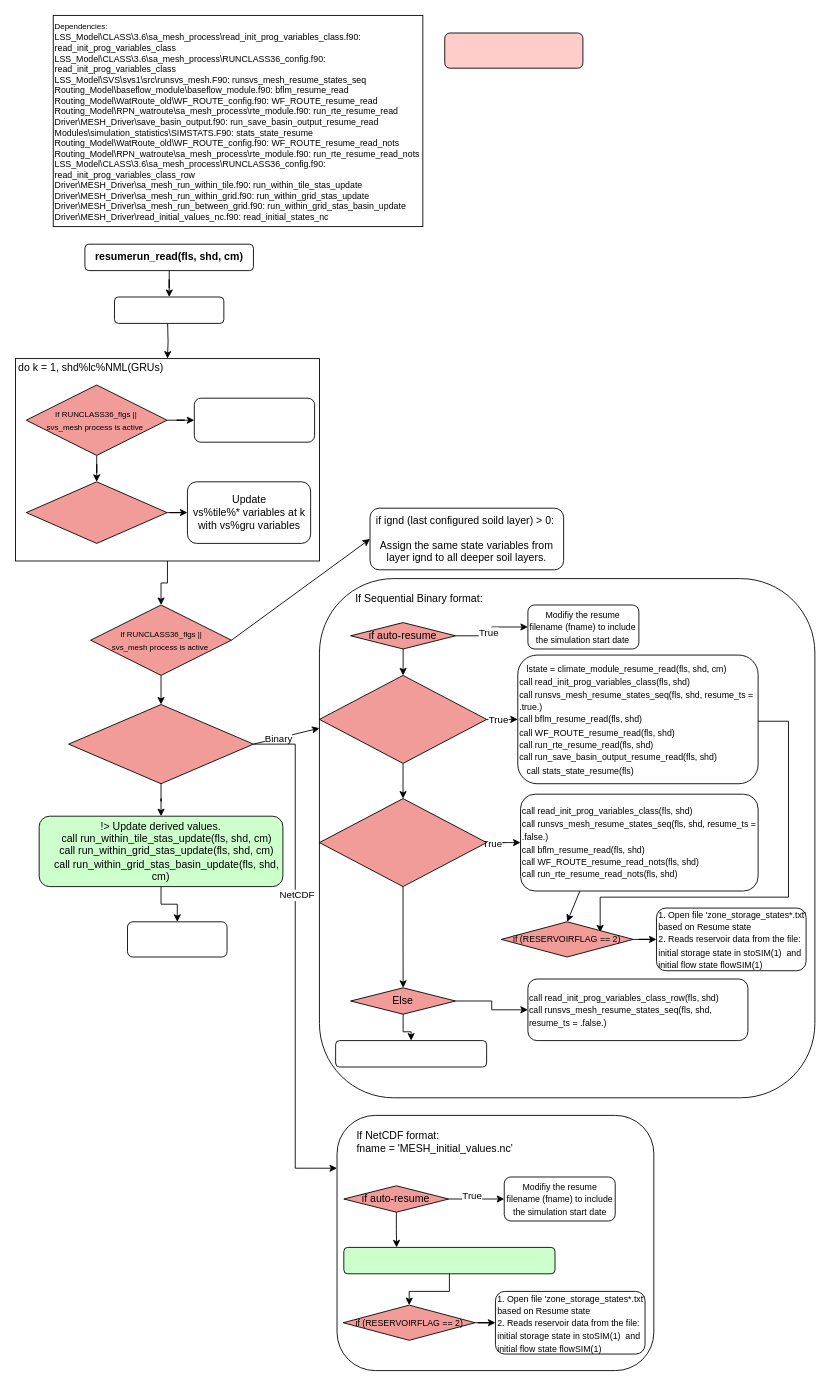
This 831x1386 diagram has some shape labels left out. The shapes that lost their labels are listed below. From the top down, each one's box as (x1, y1, x2, y2) in pixels, then its label:
(444, 32, 583, 68): resumerun_read.f90
(114, 296, 224, 323): call reset_tab
(193, 397, 315, 442): Update vs%tile variables at k with vs%gru variables
(25, 481, 167, 543): if (RUNCLASS36_flgs% PROCESS_ACTIVE)
(319, 675, 487, 763): If +STASONLY and +CLASSPROG flags not in vs%flgs%resume%bin
(68, 704, 253, 784): if (.not. vs%flgs%resume%state == FLAG_OFF)
(319, 798, 487, 887): Else If +CLASSPROG flags not in vs%flgs%resume%bin
(127, 921, 227, 957): end subroutine
(335, 1040, 487, 1067): Restore Filename After Auto-Resume
(343, 1247, 555, 1274): call read_initial_states_nc(fls, shd, trim(fname), ierr)
